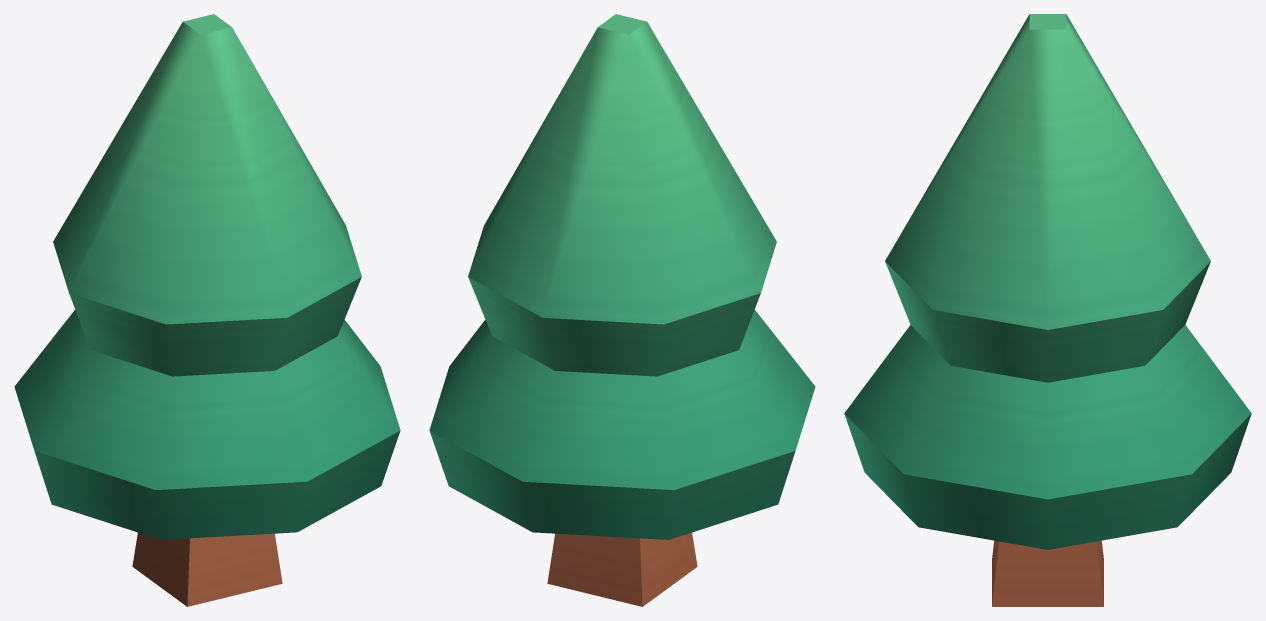
The model's file is detail-tree.fbx.
3 renders of one model, left to right at view 1: azimuth 30°, elevation 25°; view 2: azimuth 150°, elevation 25°; view 3: azimuth 270°, elevation 25°, orthographic.
Visible parts, largest first — view 1: detail-tree; view 2: detail-tree; view 3: detail-tree.
Boxes of the visible parts, <box> form: detail-tree: <box>14,14,400,606</box>; detail-tree: <box>429,14,815,606</box>; detail-tree: <box>844,14,1251,606</box>.
Bounding box in the file's own units: 35 × 53.2 × 35.
